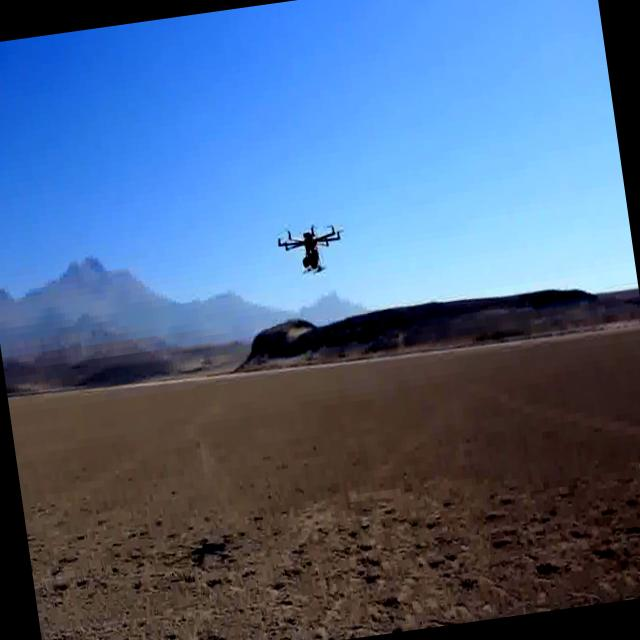drone: (272, 214, 350, 279)
